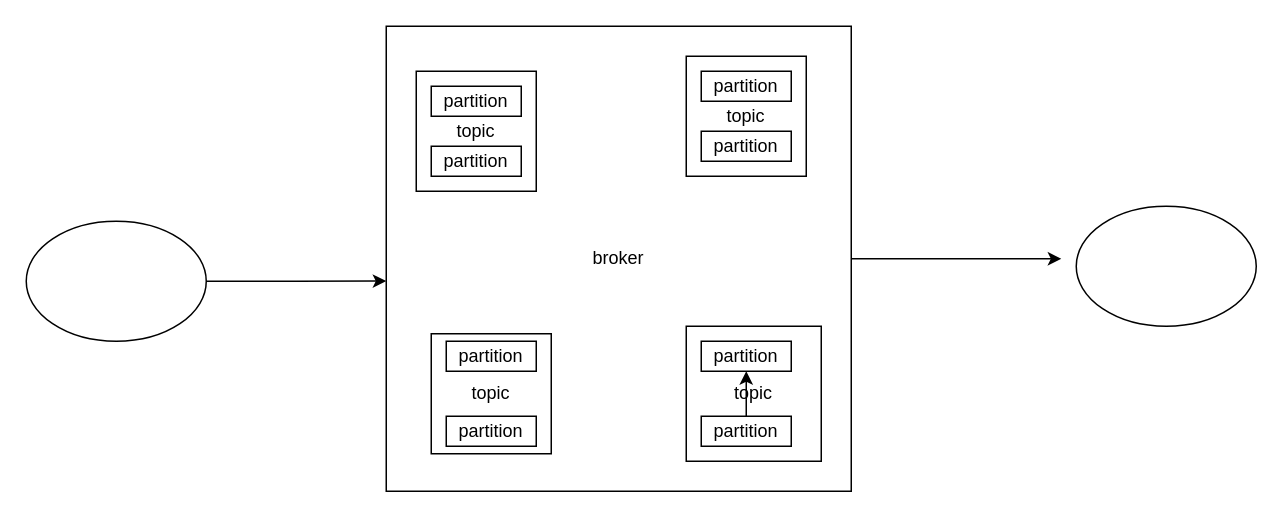
Image size: 1283x518. Some labels were removed from this diagram. Each missing label, with the centre of its shape:
"cumsumer" goes at point (1165, 265).
"productor" goes at point (115, 280).
